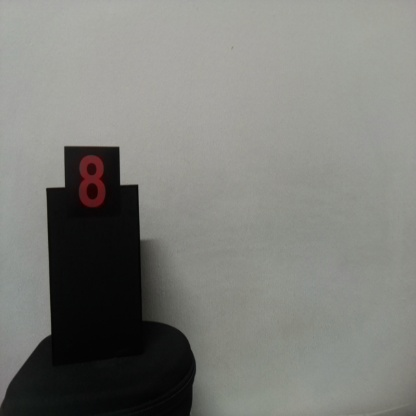id_8: (64, 145, 120, 234)
